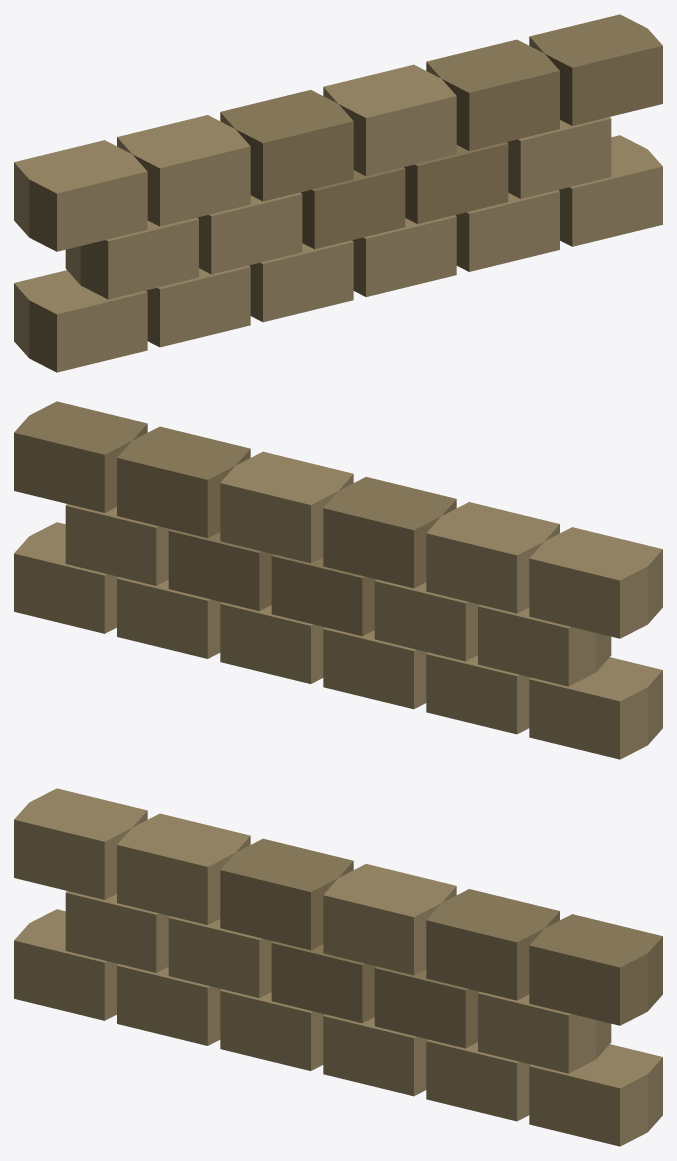
Rendered from ub_sandbags.glb.
The picture shows the model from 3 angles, top to bottom: view 1: azimuth 30°, elevation 25°; view 2: azimuth 150°, elevation 25°; view 3: azimuth 330°, elevation 25°; orthographic projection.
Visible parts, largest first — view 1: ub_sandbags; view 2: ub_sandbags; view 3: ub_sandbags.
Part boxes in pixels (box(x1,y1,x2,y2)): ub_sandbags: box(14, 14, 662, 372); ub_sandbags: box(14, 401, 662, 759); ub_sandbags: box(14, 788, 662, 1146).
Bounding box in the file's own units: 3 × 0.83 × 0.36.
